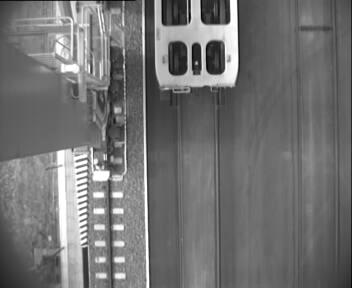twist_lock_2: (164, 37, 229, 80)
